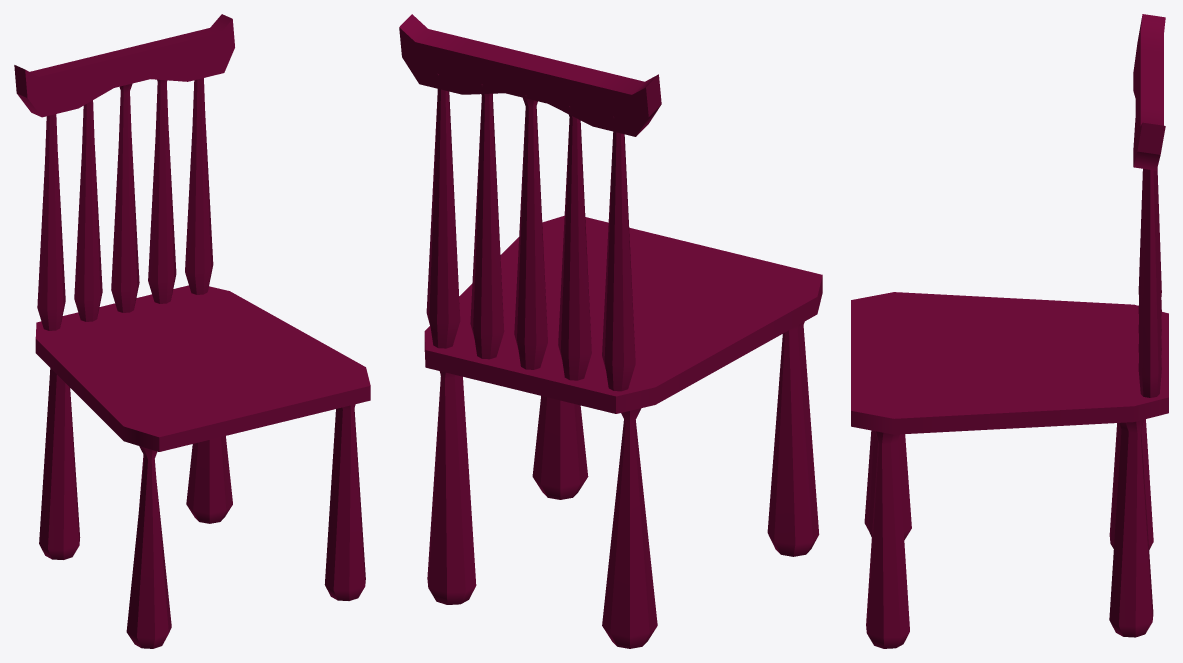
File: Chair.fbx
3 renders of one model, left to right at view 1: azimuth 30°, elevation 25°; view 2: azimuth 150°, elevation 25°; view 3: azimuth 270°, elevation 25°, orthographic. The views are drawn at different scales.
Parts seen in each view (by area): view 1: ChairTop1; view 2: ChairTop1; view 3: ChairTop1.
Boxes of the visible parts, box(x1,y1,x2,y2) form: ChairTop1: box(14, 14, 370, 648); ChairTop1: box(399, 14, 822, 648); ChairTop1: box(851, 14, 1168, 648).
Size of the model in its own units: 4.93 by 9.48 by 5.22.
